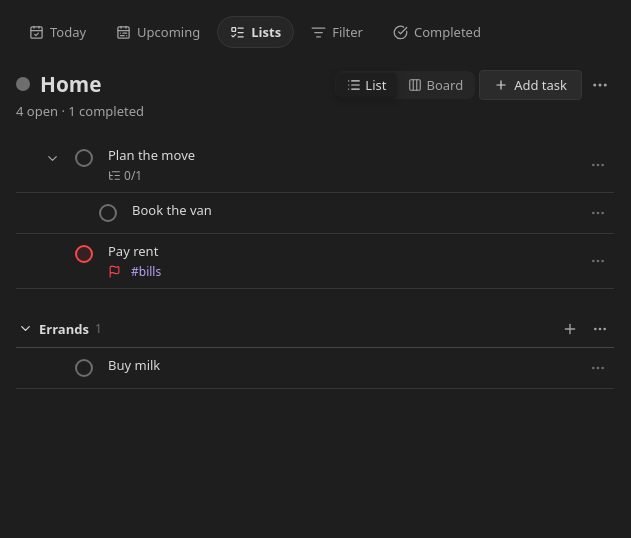
Scenario: List page (ROADMAP item 4) › edits a title inline and sends it with the title it started from
This screenshot has width=631, height=538.
Click the button with aria-label "Edit “Pay rent”" at (144,265), box [108,242,179,288]
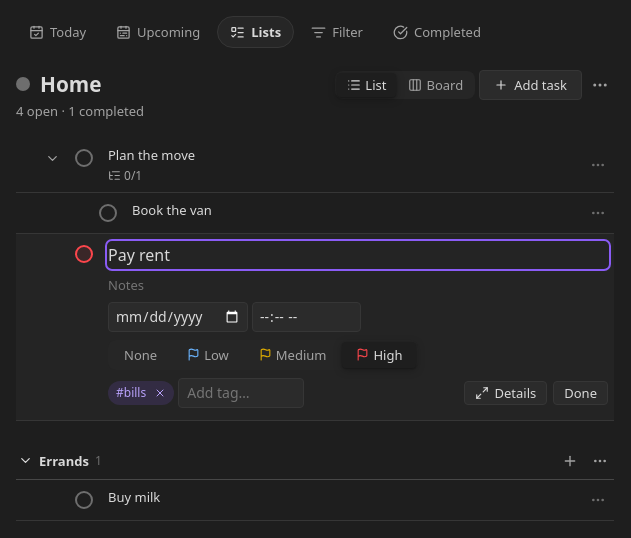
Replace the text in the text box named "Title" with "Pay the rent" at (358,255), box [108,242,608,268]
Press Enter in the text box named "Title", box [108,242,608,268]
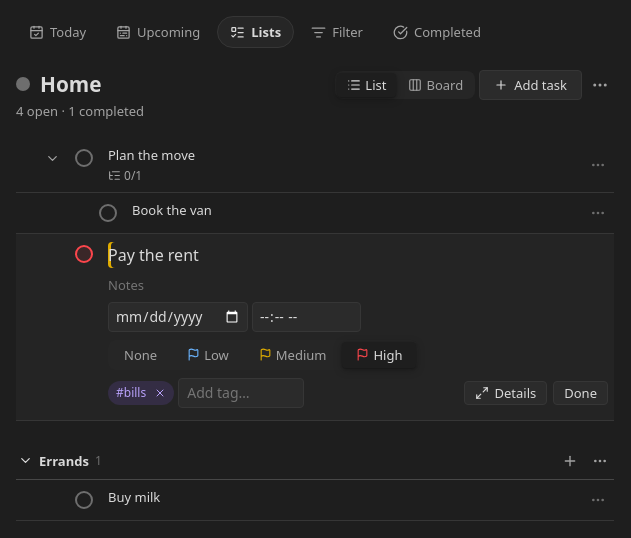
Leave the text box named "Title", box [108,242,608,268]
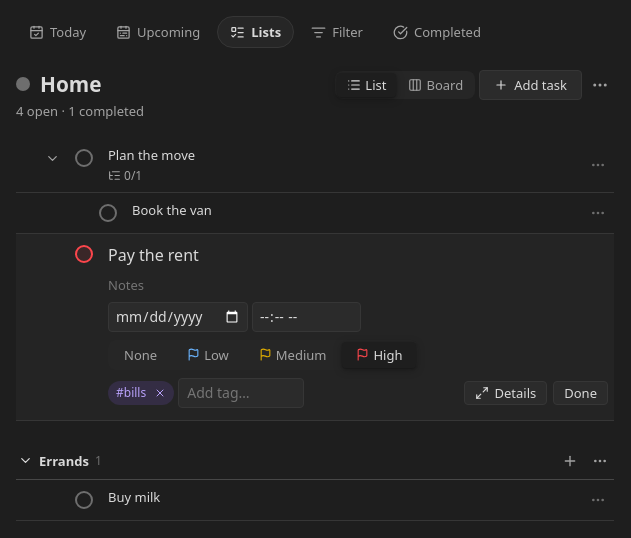
Priority and the due date are inline too.
Click the radio button labelled "Low" at (208,355), box [173,342,243,368]
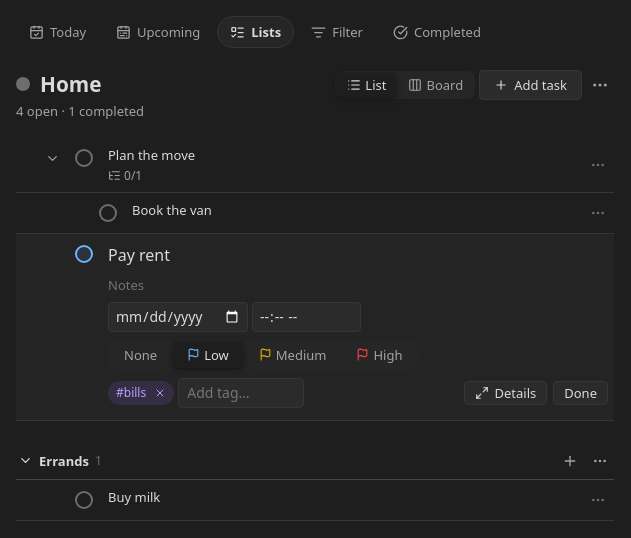
Type "2026-11-01" into the date field named "Due date" at (178,317), box [108,302,248,332]
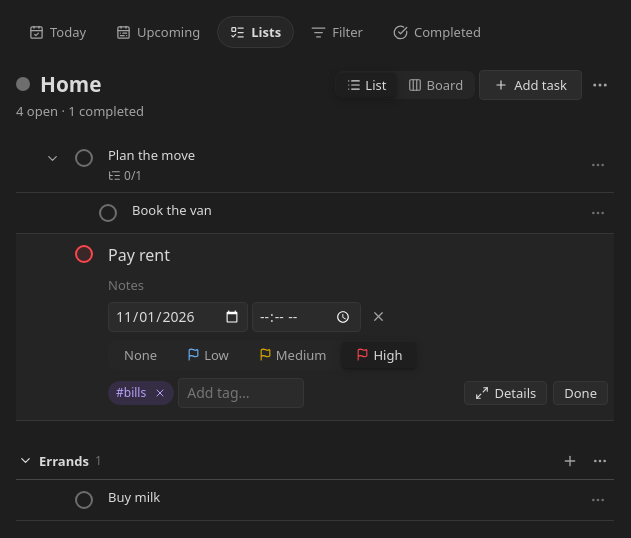
Click the button "Done" at (581,393), box [553,381,608,405]
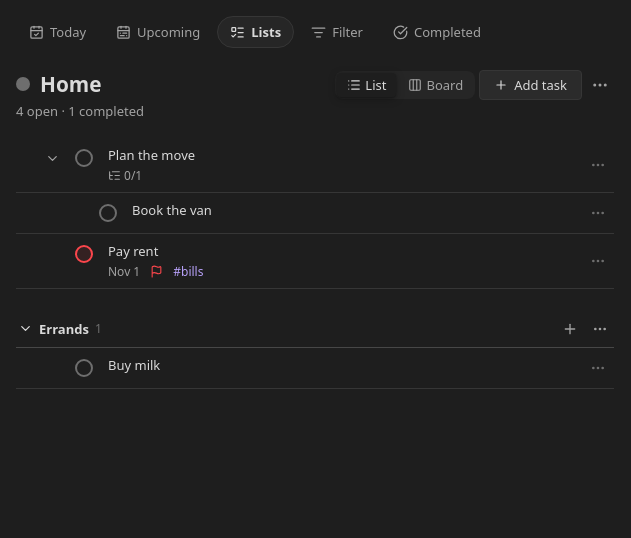
Now the text box labelled "Title" is gone
